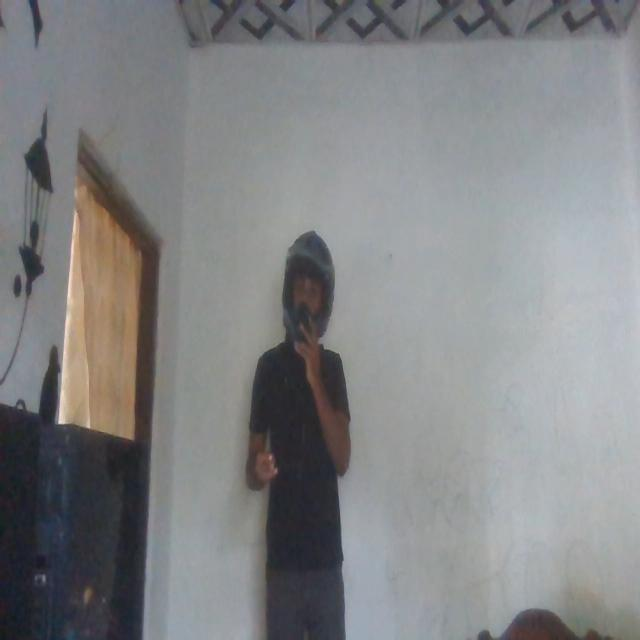Helmet_Wearer: (239, 243, 358, 640)
Person: (270, 227, 338, 368)
